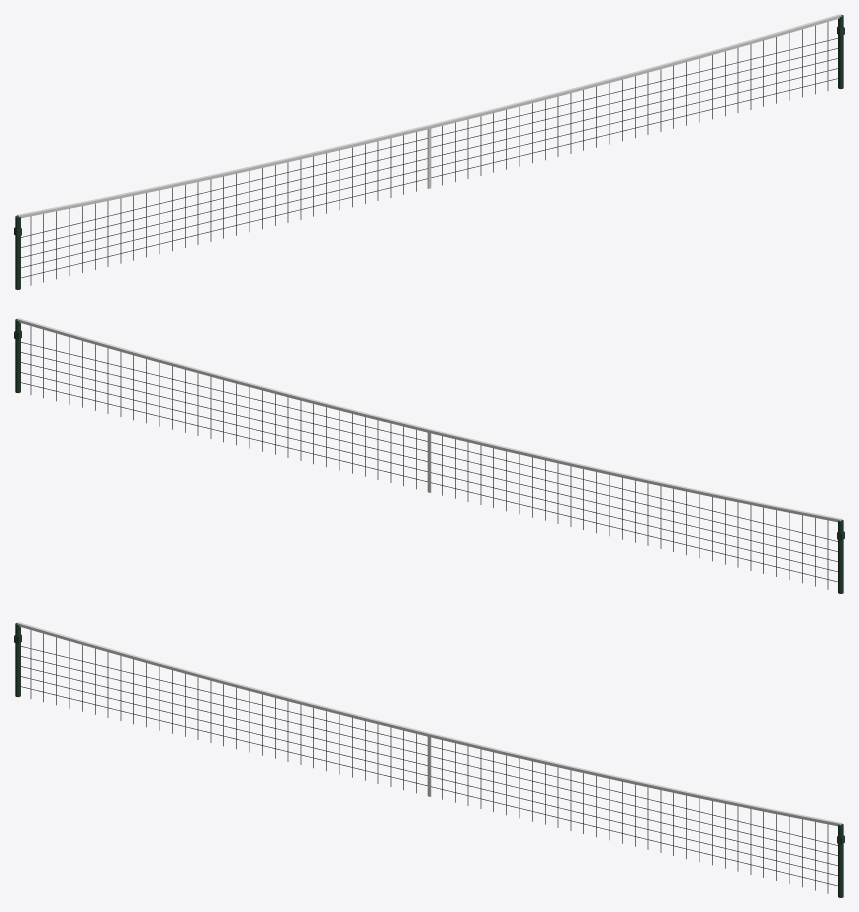
Rendered from sport.court.tennis_net_posts.glb.
3 views of the same model, one above another, from view 1: azimuth 30°, elevation 25°; view 2: azimuth 150°, elevation 25°; view 3: azimuth 330°, elevation 25° (orthographic).
Parts seen in each view (by area): view 1: main__paint_333, main__paint_ddd, main__paint_243; view 2: main__paint_333, main__paint_ddd, main__paint_243; view 3: main__paint_333, main__paint_ddd, main__paint_243.
Part boxes in pixels (left/top/right/bottom): main__paint_333: left=21, top=22, right=838, bottom=285; main__paint_ddd: left=17, top=14, right=841, bottom=218; main__paint_243: left=14, top=14, right=844, bottom=289; main__paint_333: left=20, top=326, right=837, bottom=589; main__paint_ddd: left=17, top=318, right=841, bottom=522; main__paint_243: left=14, top=318, right=844, bottom=593; main__paint_333: left=20, top=630, right=837, bottom=893; main__paint_ddd: left=17, top=622, right=841, bottom=826; main__paint_243: left=14, top=622, right=844, bottom=897.
Size of the model in its own units: 12.88 by 1.1 by 0.08.
